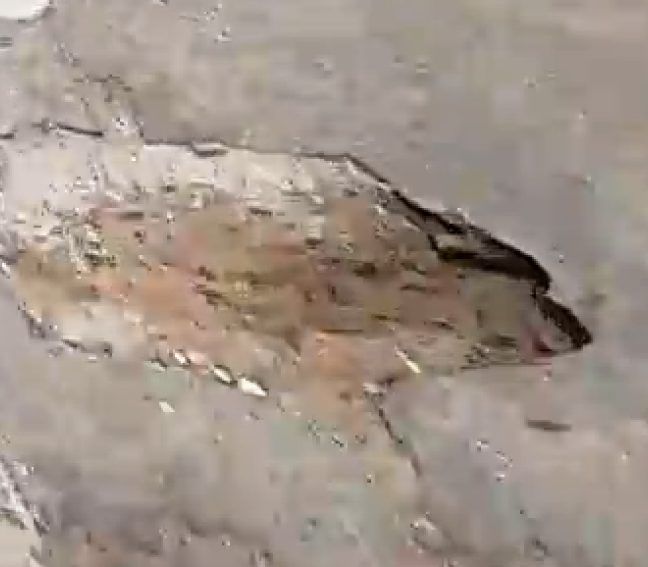Berlubang: (1, 130, 600, 401)
